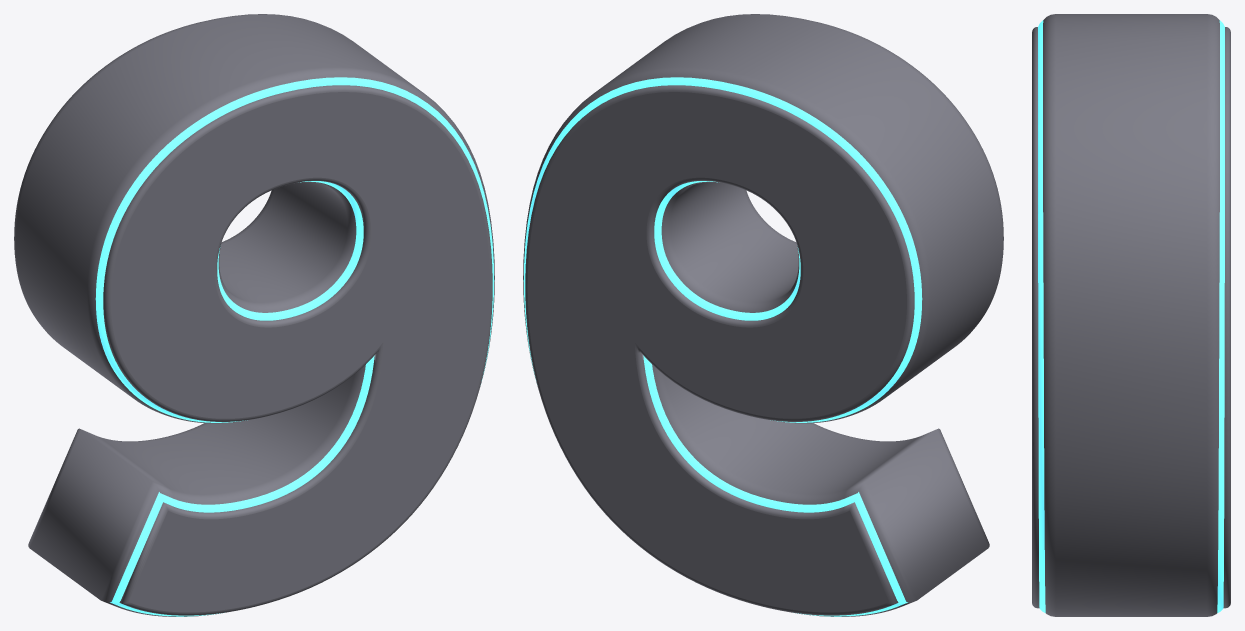
3 views of the same model, side by side, from view 1: azimuth 30°, elevation 25°; view 2: azimuth 150°, elevation 25°; view 3: azimuth 270°, elevation 25° (orthographic). The views are drawn at different scales.
Visible parts, largest first — view 1: N_9_smaller, N_9_side, N_9_border; view 2: N_9_smaller, N_9_side, N_9_border; view 3: N_9_side, N_9_smaller, N_9_border.
Boxes of the visible parts, x1=… form: N_9_smaller: x1=103, y1=85, x2=492, y2=615; N_9_side: x1=14, y1=14, x2=494, y2=616; N_9_border: x1=95, y1=77, x2=494, y2=616; N_9_smaller: x1=525, y1=85, x2=914, y2=615; N_9_side: x1=523, y1=14, x2=1003, y2=616; N_9_border: x1=523, y1=77, x2=922, y2=616; N_9_side: x1=1043, y1=14, x2=1219, y2=616; N_9_smaller: x1=1032, y1=27, x2=1230, y2=608; N_9_border: x1=1038, y1=20, x2=1224, y2=612.
Size of the model in its own units: 46.07 by 56.95 by 18.4.
